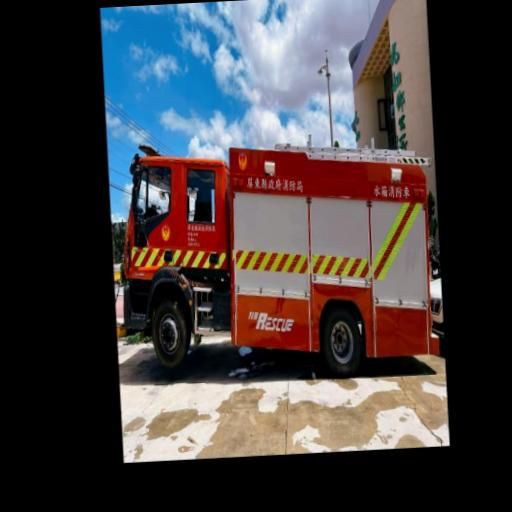fire truck: (120, 80, 442, 404)
